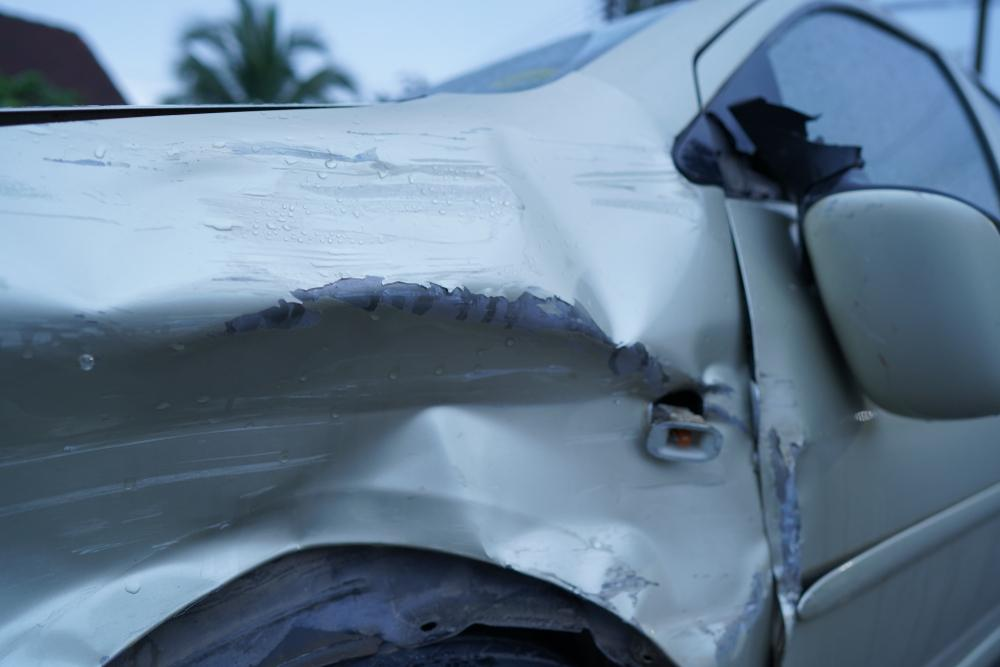dent: (0, 101, 780, 667)
scratch: (766, 417, 803, 606)
